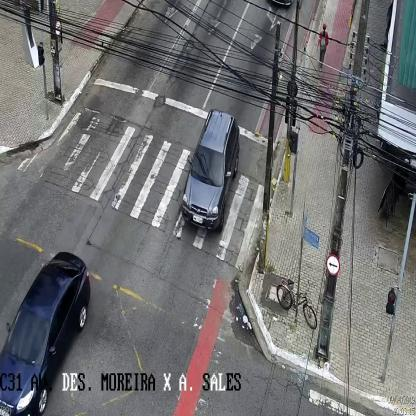bicycle: (276, 278, 316, 329)
car: (0, 252, 90, 416), (184, 110, 238, 233)
person: (316, 23, 329, 73)
